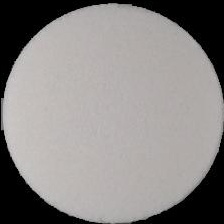33261-994: (0, 0, 224, 224)
